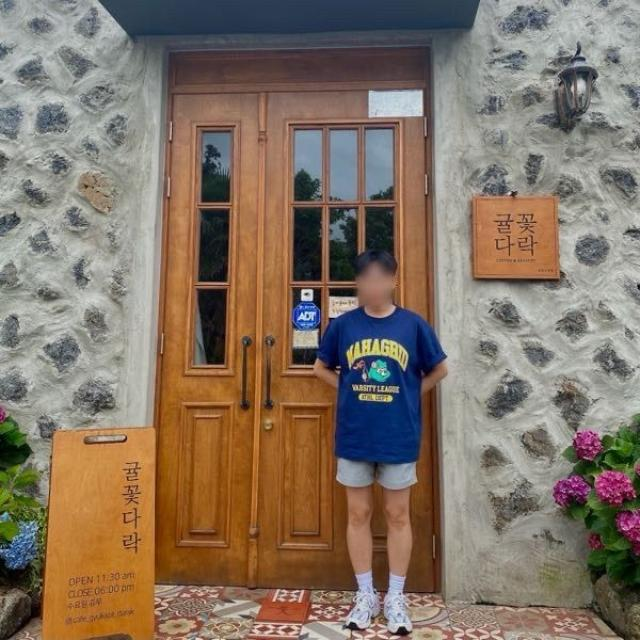shortpants: (336, 454, 418, 494)
shortsleeve: (317, 302, 447, 462)
